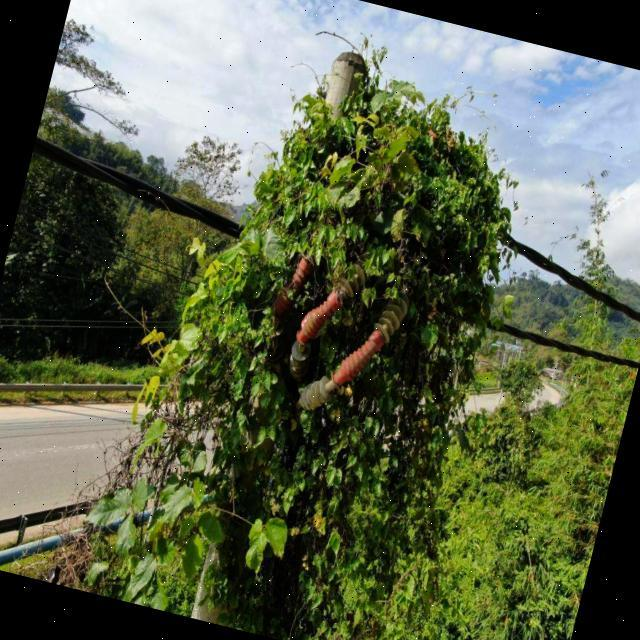critical vegetation: (83, 1, 584, 640)
